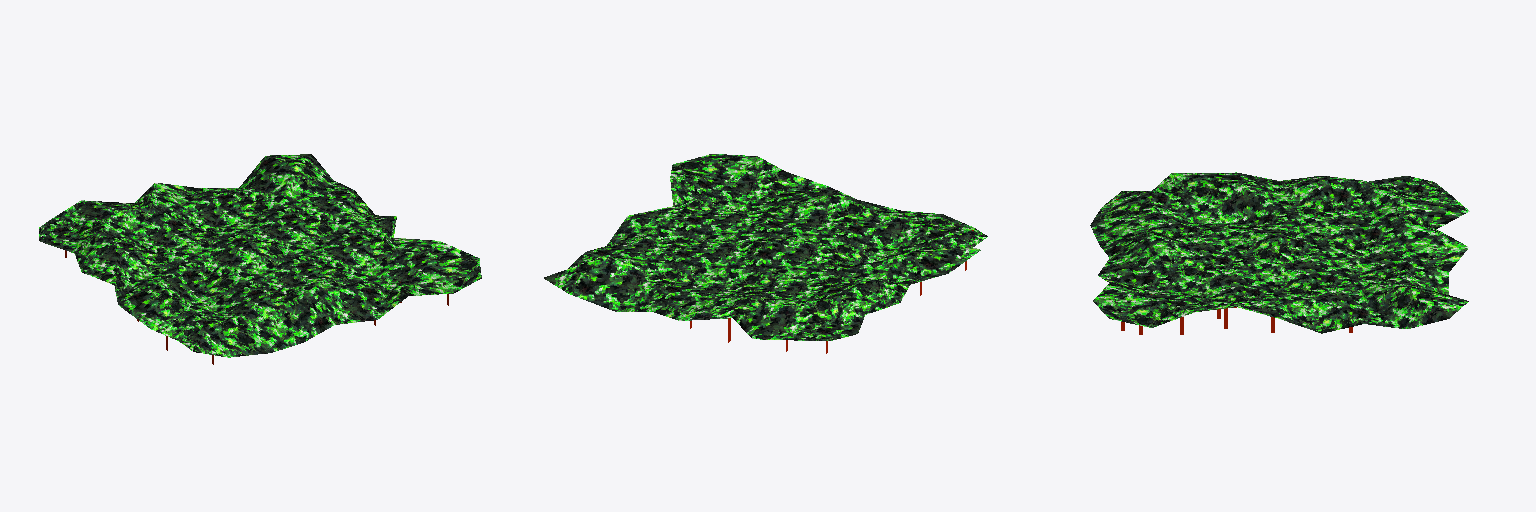
3 renders of one model, left to right at view 1: azimuth 30°, elevation 25°; view 2: azimuth 150°, elevation 25°; view 3: azimuth 270°, elevation 25°, orthographic.
Parts seen in each view (by area): view 1: Plane; view 2: Plane; view 3: Plane.
Boxes of the visible parts, x1=… form: Plane: x1=39, y1=154, x2=481, y2=357; Plane: x1=544, y1=154, x2=987, y2=340; Plane: x1=1090, y1=172, x2=1469, y2=333.
Size of the model in its own units: 180 by 20.82 by 185.
2 materials, 1 textured.